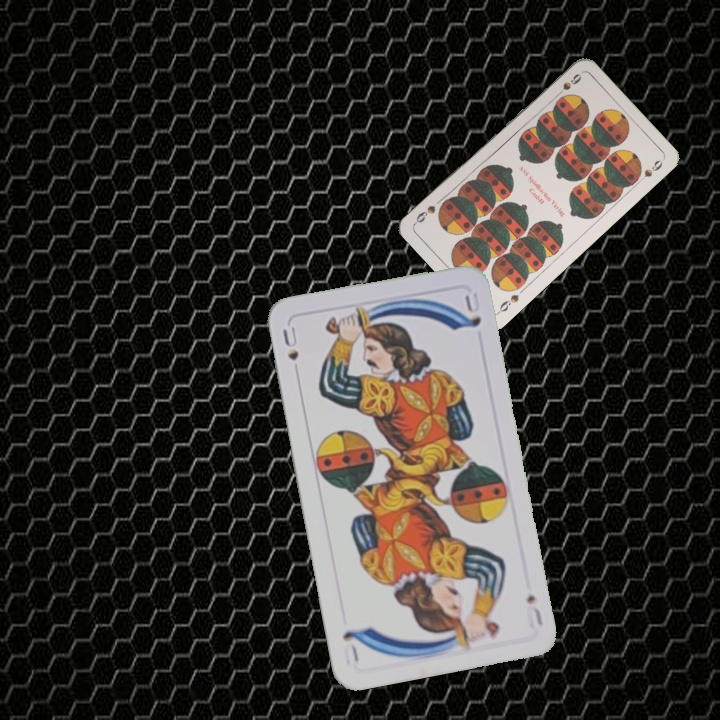S9: (551, 69, 584, 100), (494, 290, 521, 316)
SU: (522, 591, 546, 631), (278, 322, 301, 363)
